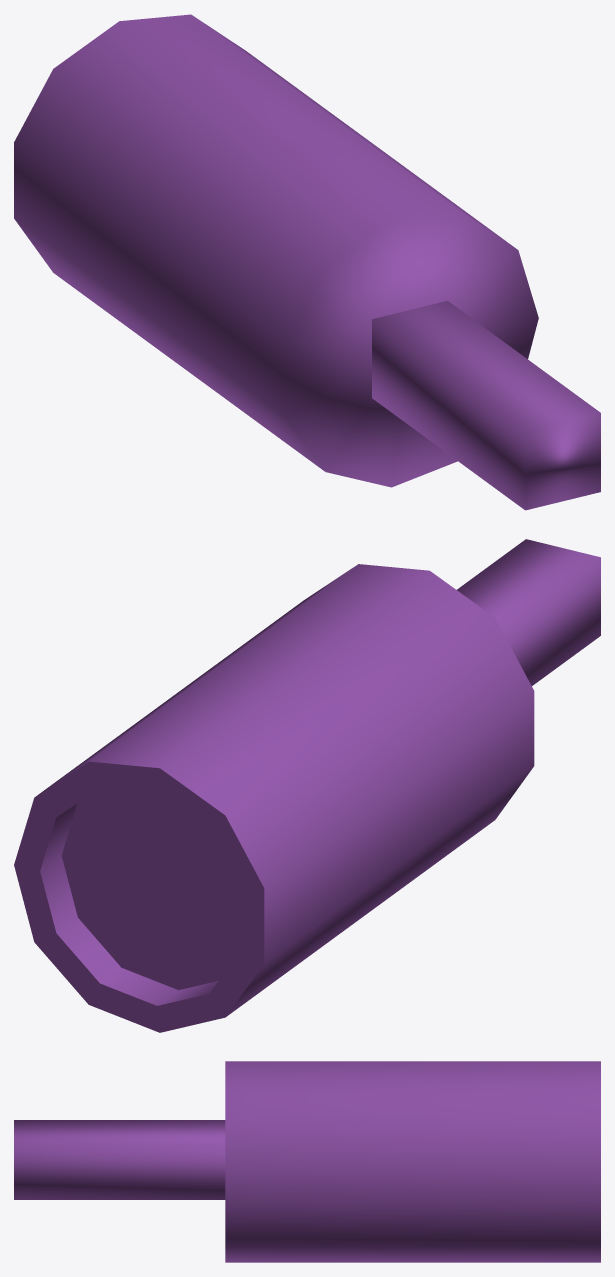
File: 3D_Lamp_01_a.fbx
3 renders of one model, top to bottom at view 1: azimuth 30°, elevation 25°; view 2: azimuth 150°, elevation 25°; view 3: azimuth 270°, elevation 25°, orthographic. The views are drawn at different scales.
Parts seen in each view (by area): view 1: polySurface318; view 2: polySurface318; view 3: polySurface318.
Part boxes in pixels (<box>): polySurface318: <box>14,14,600,510</box>; polySurface318: <box>14,539,600,1032</box>; polySurface318: <box>14,1061,600,1262</box>.
Bounding box in the file's own units: 20.09 × 20.3 × 58.62.
